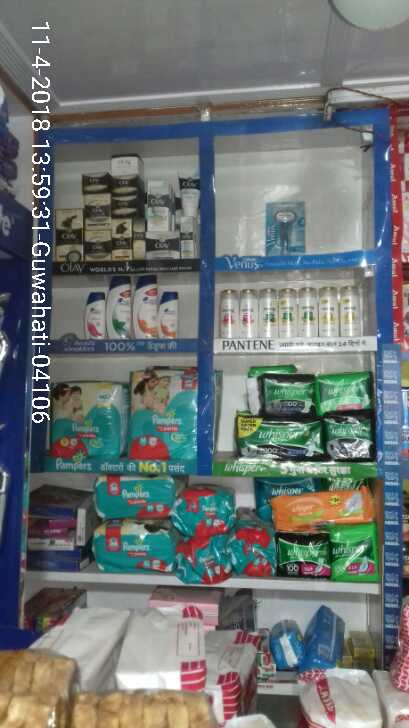venus: (269, 194, 306, 254)
